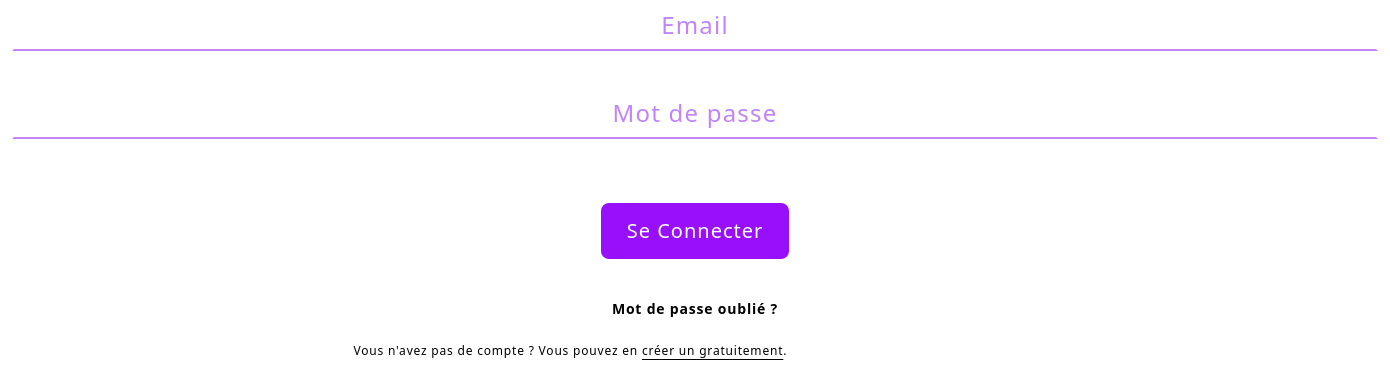
Test: LoginForm › affiche une erreur sur chaque champ requis lors d'une soumission vide
This screenshot has width=1390, height=377.
Click the button "Se Connecter".
click(695, 231)  # box [601,203,789,259]
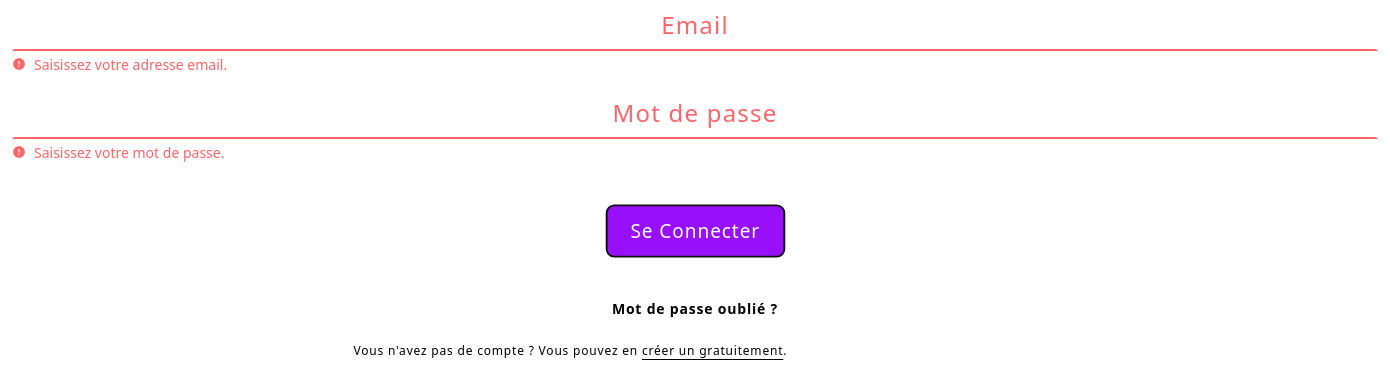
Check: the text "Saisissez votre adresse email." is shown, box [34,55,227,75]
Check: the text "Saisissez votre mot de passe." is shown, box [34,143,224,163]
